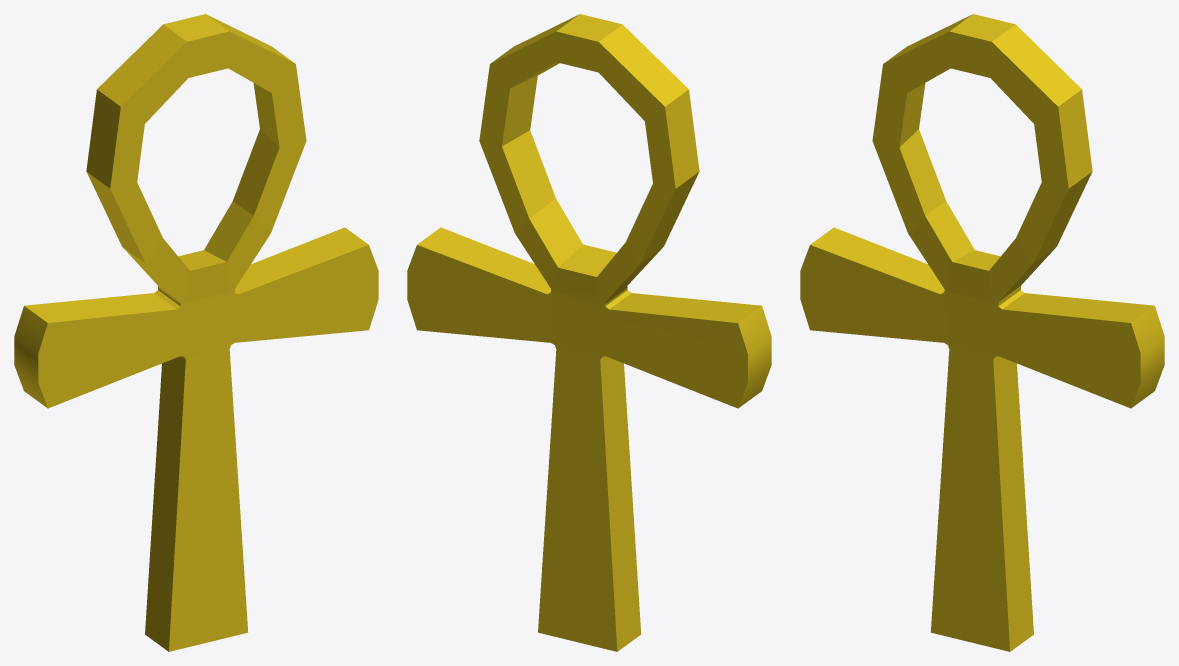
The model's file is Key_low.fbx.
3 views of the same model, side by side, from view 1: azimuth 30°, elevation 25°; view 2: azimuth 150°, elevation 25°; view 3: azimuth 330°, elevation 25° (orthographic).
Visible parts, largest first — view 1: Key_low; view 2: Key_low; view 3: Key_low.
Boxes of the visible parts, box(x1,y1,x2,y2) form: Key_low: box(14, 14, 378, 651); Key_low: box(407, 14, 771, 651); Key_low: box(800, 14, 1164, 651).
Size of the model in its own units: 9.43 by 16.03 by 1.16.
